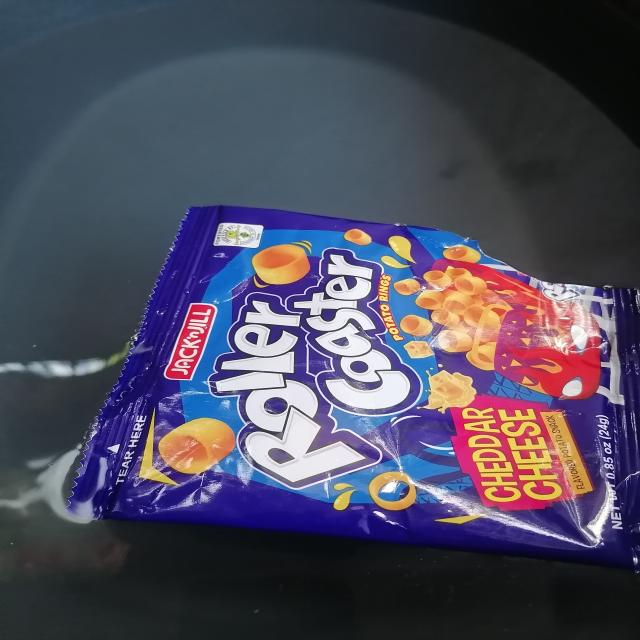Plastic Wrapper: (68, 206, 640, 569)
